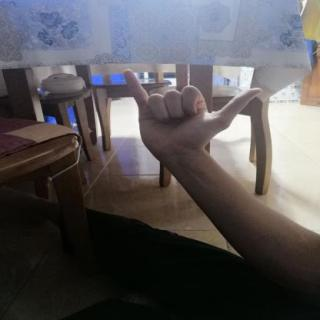YA: (114, 58, 268, 164)
